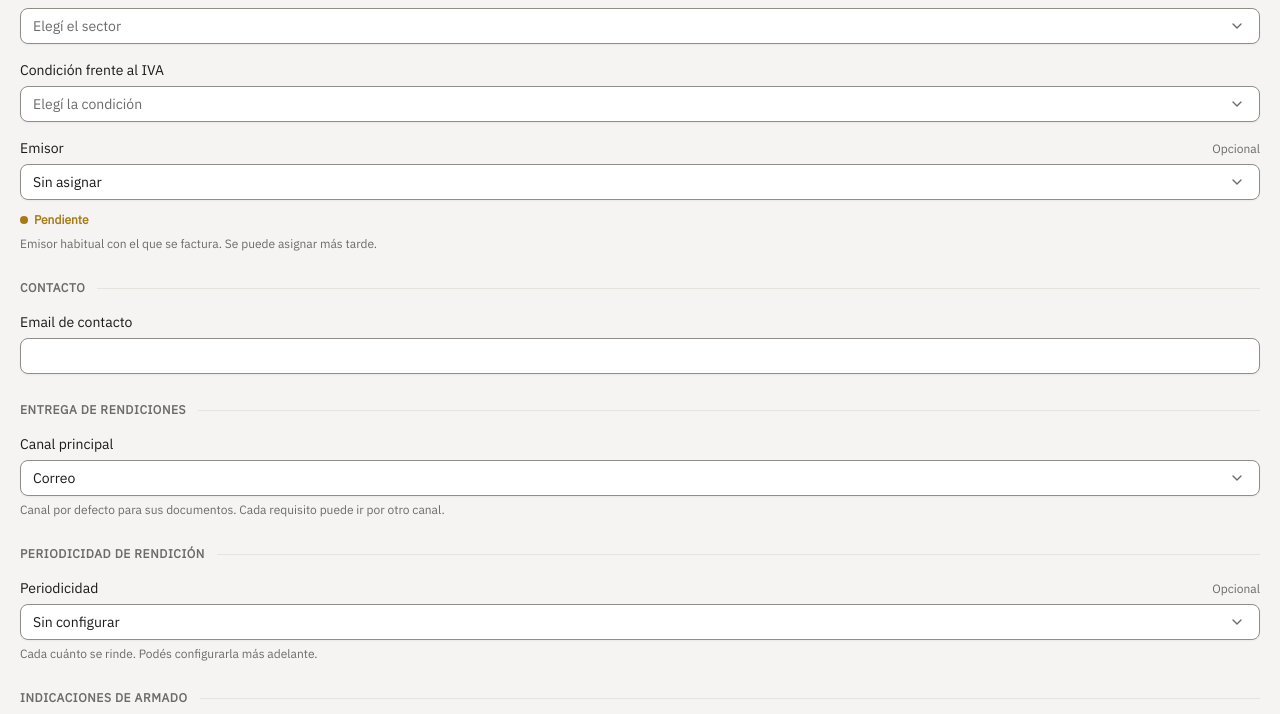
Test: ClienteForm: antes del primer envío › si el campo con error se vacía, el error se va: vacío no se marca antes de enviar
The image size is (1280, 714).
(page scrolled)
In the field labelled "Email de contacto": (640, 356) [20,338,1260,374], type "no-es-un-email"
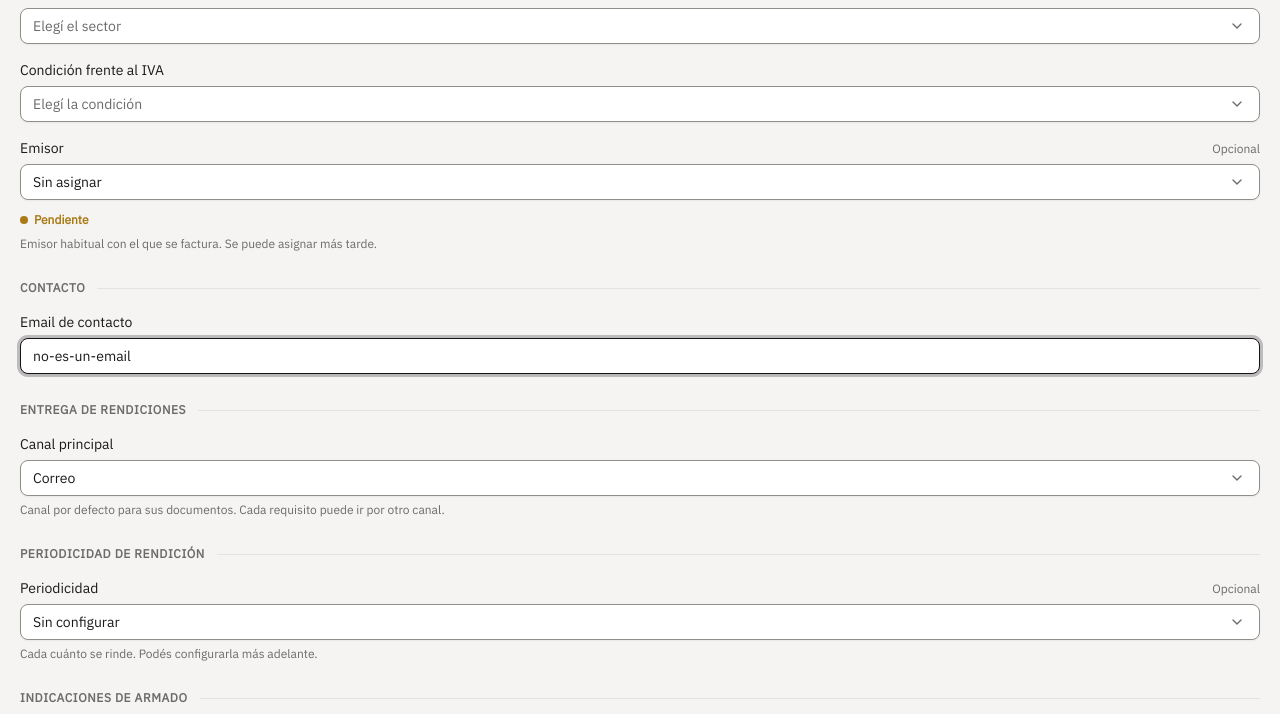
Press Tab
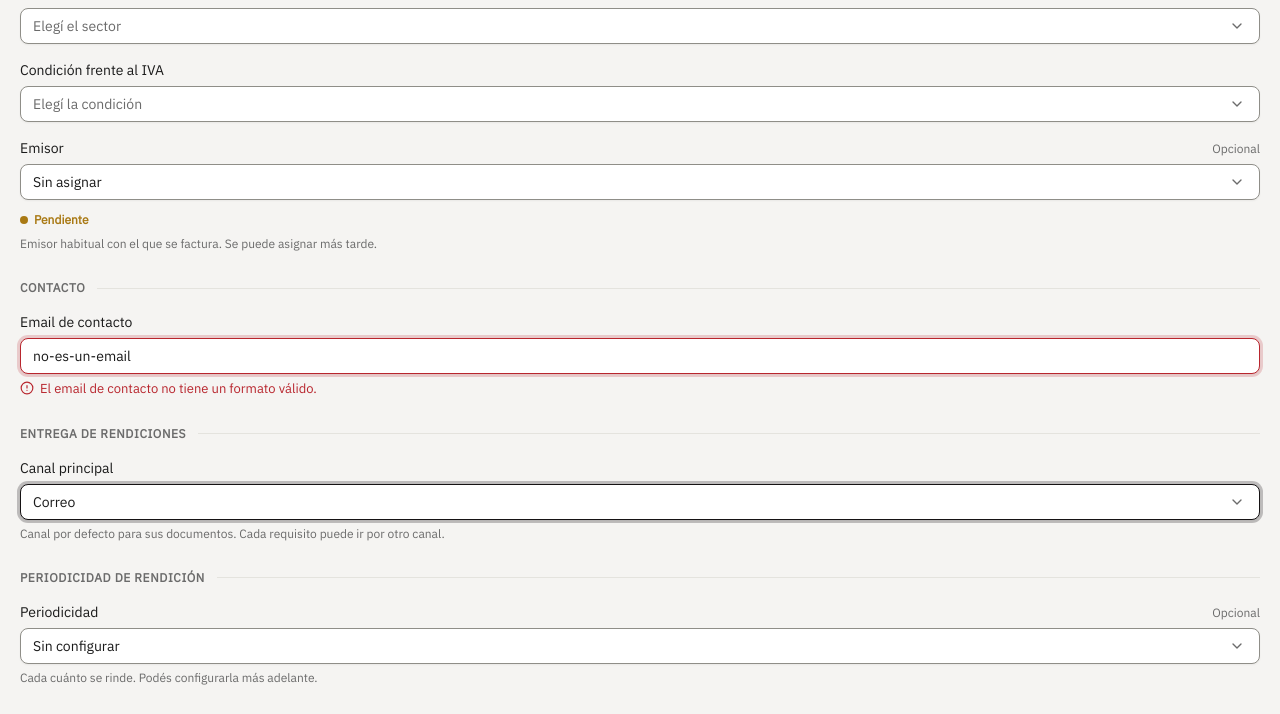
Clear the field labelled "Email de contacto": (640, 356) [20,338,1260,374]
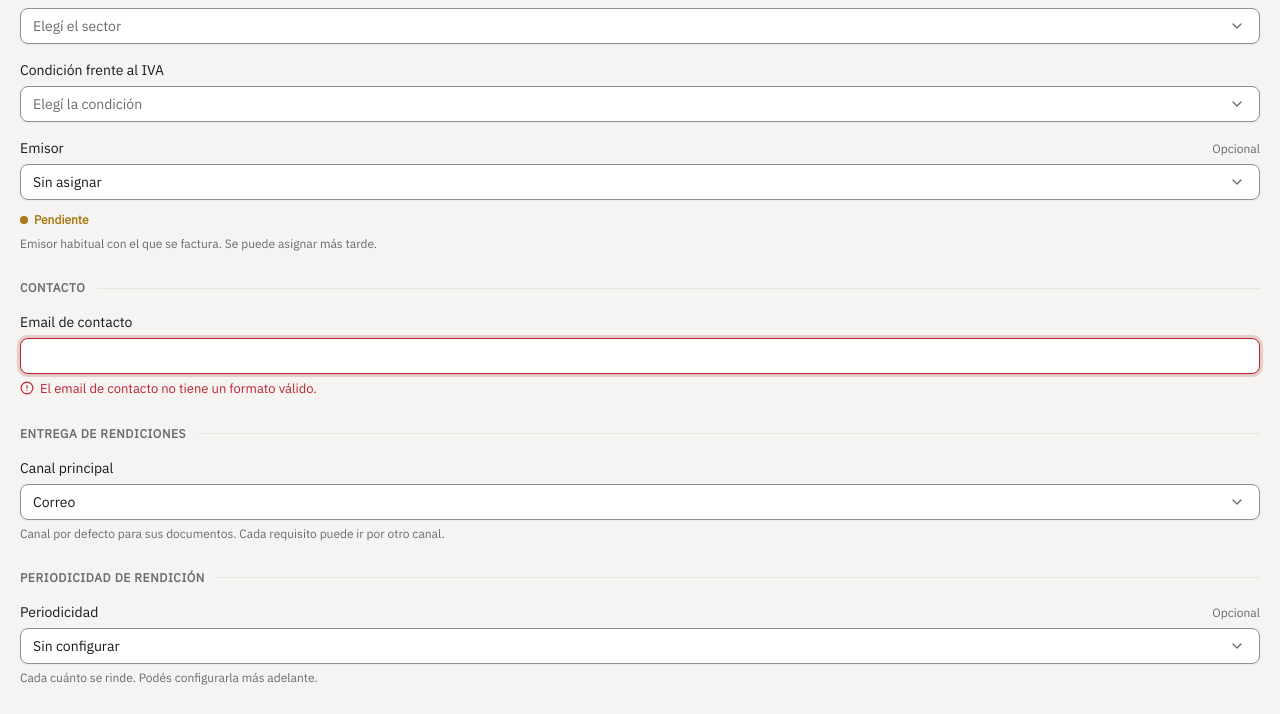
Press Tab
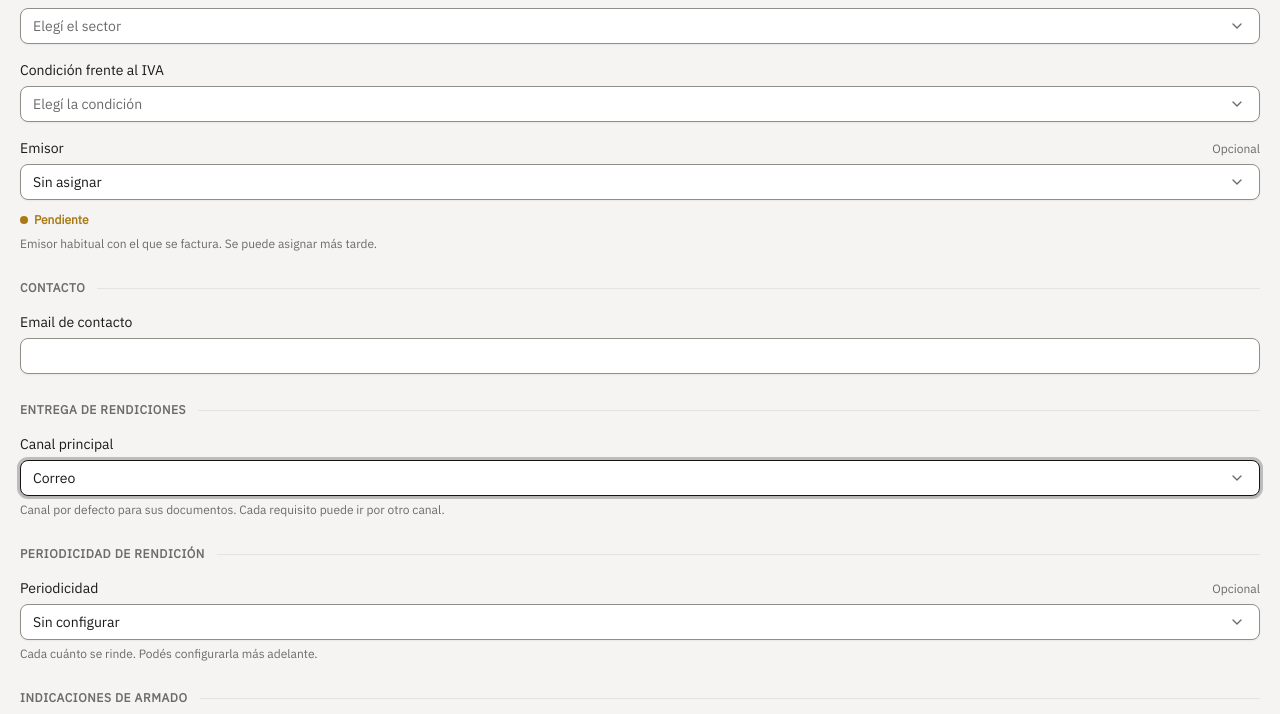
Expected: the text "El email de contacto no tiene un formato válido." is gone
